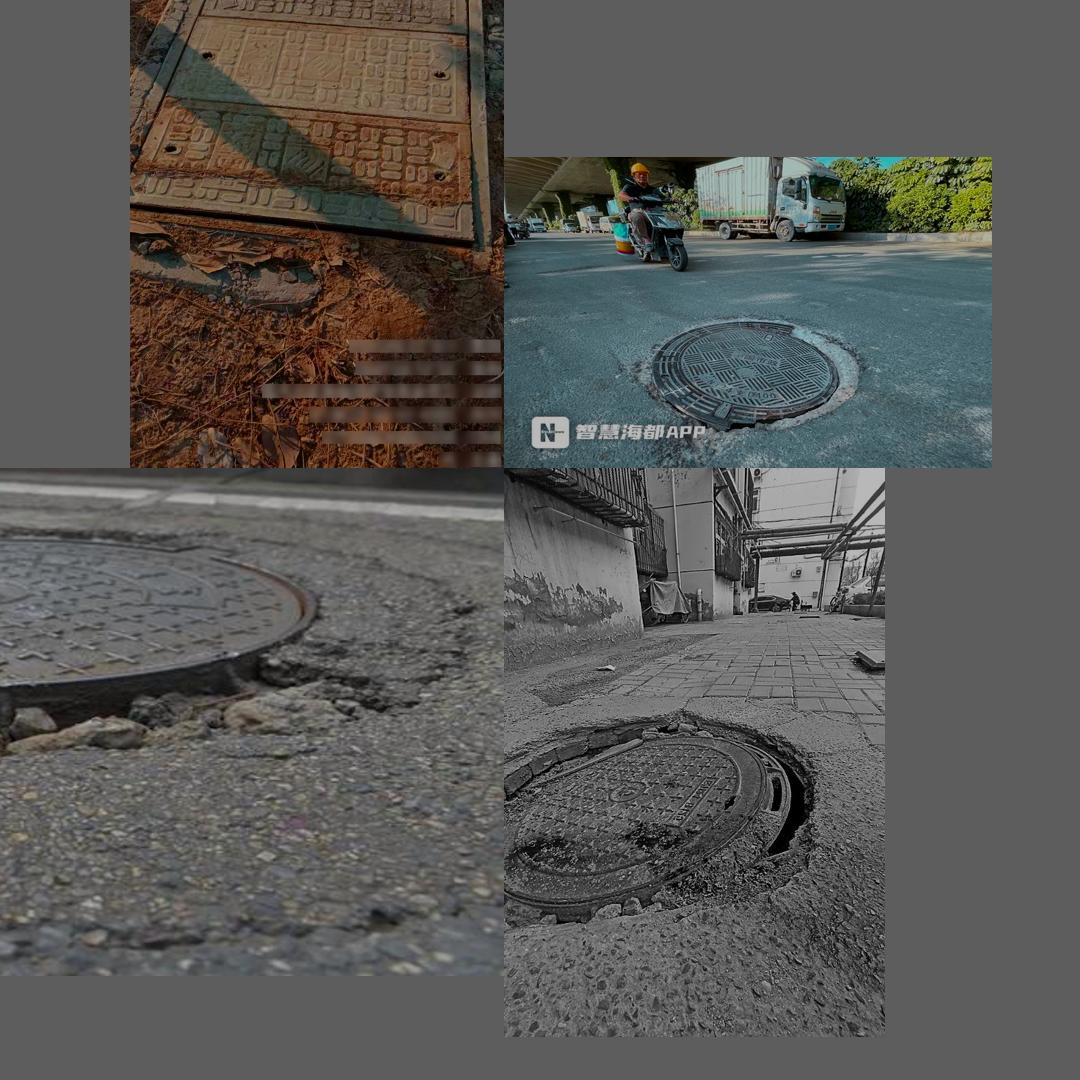circle: (0, 515, 468, 781), (504, 697, 834, 990), (130, 0, 498, 260), (611, 302, 895, 444)
